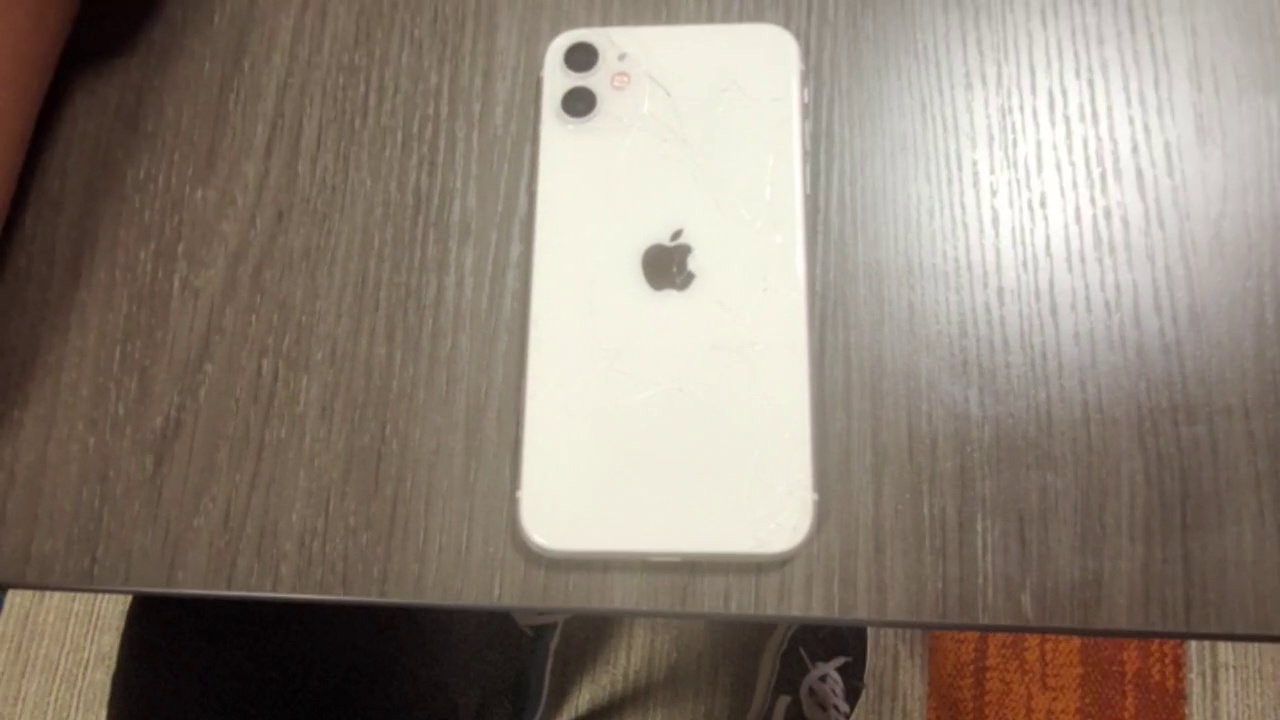celular: (517, 20, 816, 568)
